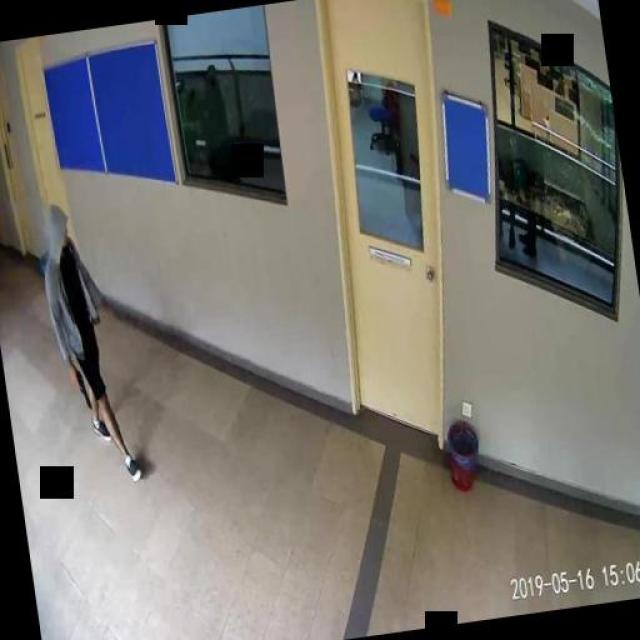gun: (71, 368, 90, 412)
